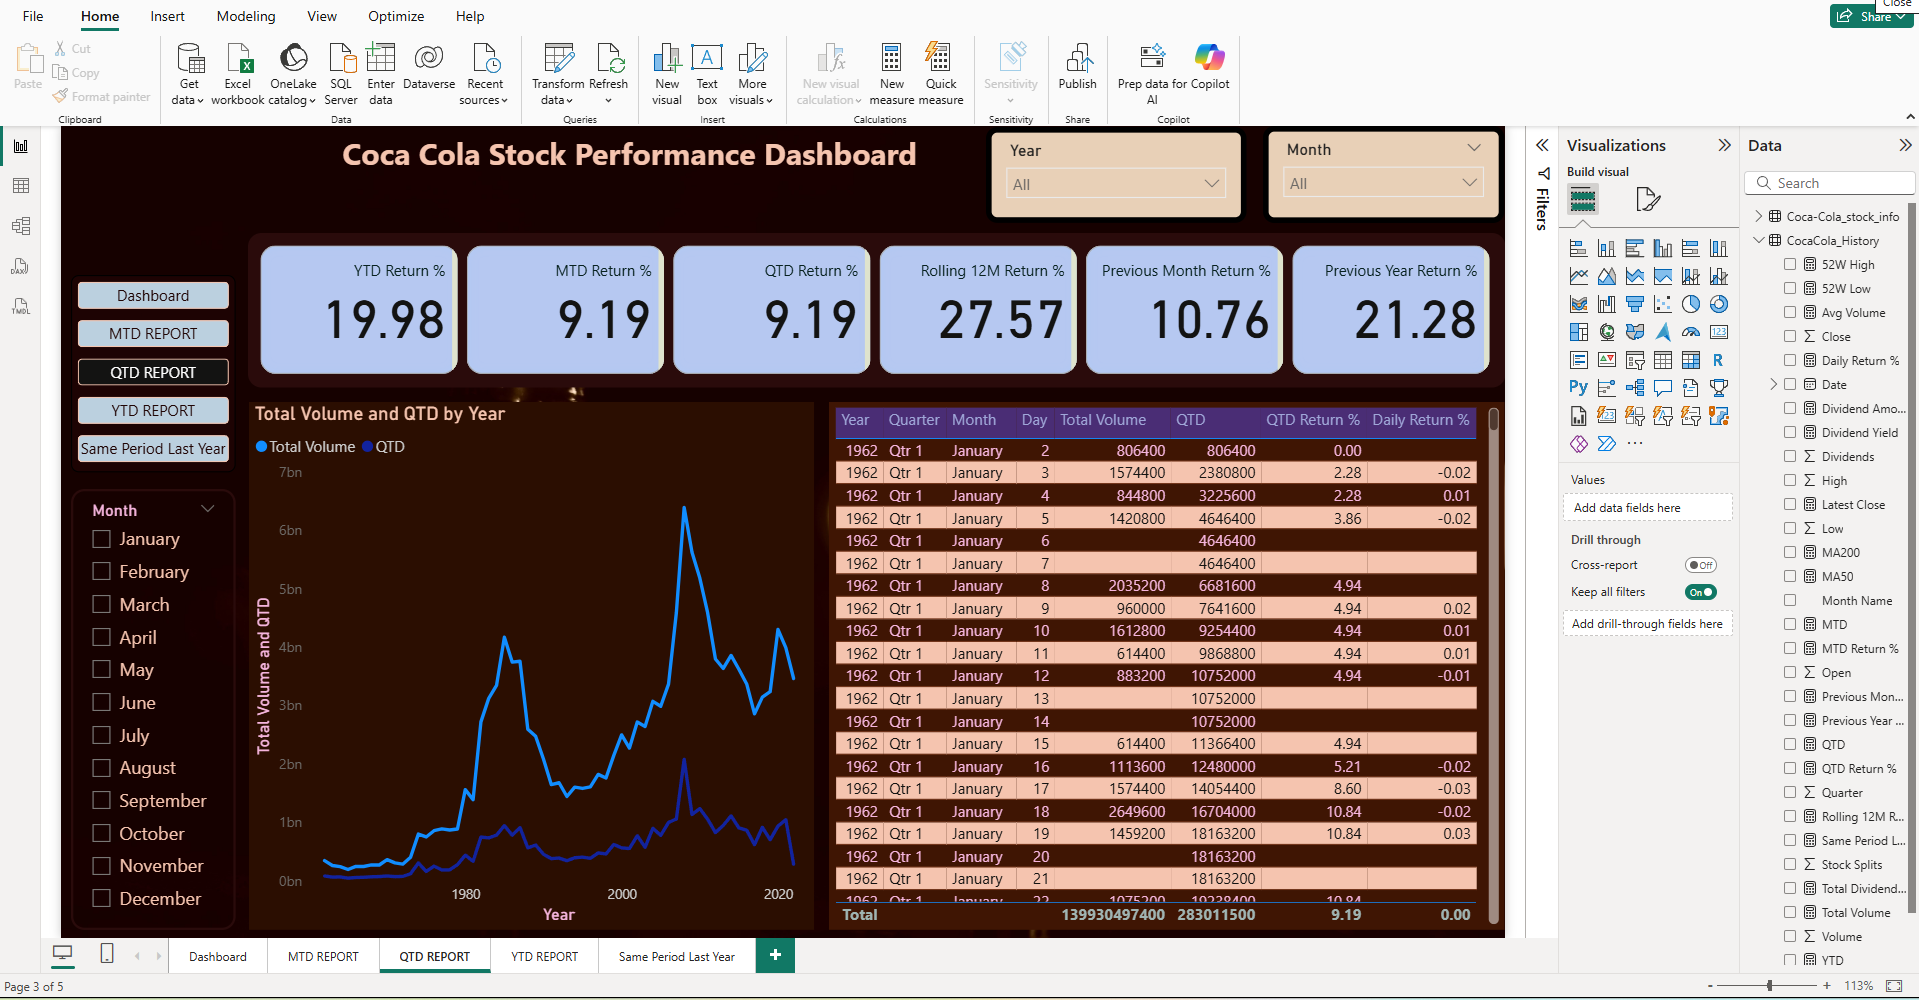

The dashboard page shown, as its layout file describes it:
{"tool":"powerbi","page":{"name":"QTD REPORT","canvas":[1280,720],"ordinal":2},"visuals":[{"type":"textbox","box":[213,1,583,61],"z":0},{"type":"slicer","fields":{"Values":["CocaCola_History.Date.Variation.Date Hierarchy.Month"]},"box":[1066,0,214,86],"z":1000},{"type":"slicer","fields":{"Values":["CocaCola_History.Date.Variation.Date Hierarchy.Month"]},"box":[8.9,321.9,146,391],"z":2000},{"type":"cardVisual","fields":{"Data":["CocaCola_History.YTD Return %","CocaCola_History.MTD Return %","CocaCola_History.QTD Return %","CocaCola_History.Rolling 12M Return %","CocaCola_History.Previous Month Return %","CocaCola_History.Previous Year Return %"]},"box":[165.8,94.9,1114.6,136.6],"z":3000},{"type":"lineChart","fields":{"Y":["CocaCola_History.Total Volume","CocaCola_History.QTD"],"Category":["CocaCola_History.Date.Variation.Date Hierarchy.Year"]},"box":[166.3,245.1,500.9,467.8],"z":4000},{"type":"tableEx","fields":{"Values":["CocaCola_History.Date.Variation.Date Hierarchy.Year","CocaCola_History.Date.Variation.Date Hierarchy.Quarter","CocaCola_History.Date.Variation.Date Hierarchy.Month","CocaCola_History.Date.Variation.Date Hierarchy.Day","CocaCola_History.Total Volume","CocaCola_History.QTD","CocaCola_History.QTD Return %","CocaCola_History.Daily Return %"]},"box":[680.9,245.1,599.1,467.8],"z":5000},{"type":"slicer","fields":{"Values":["CocaCola_History.Date.Variation.Date Hierarchy.Year"]},"box":[820,1,231,85],"z":6000},{"type":"pageNavigator","box":[8.9,132.1,146.3,174.7],"z":7000}]}

Visuals, with their boxes on the page's 1280x720 design canvas (x1, y1, x2, y2). These are canvas units, not pixel positions in the 1919x1000 screenshot, which may show the page scaled, cropped or inside an application window:
textbox: <bbox>213, 1, 796, 62</bbox>
slicer - CocaCola_History.Date.Variation.Date Hierarchy.Month: <bbox>1066, 0, 1280, 86</bbox>
slicer - CocaCola_History.Date.Variation.Date Hierarchy.Month: <bbox>9, 322, 155, 713</bbox>
cardVisual - CocaCola_History.YTD Return % x CocaCola_History.MTD Return %: <bbox>166, 95, 1280, 232</bbox>
lineChart - CocaCola_History.Total Volume x CocaCola_History.QTD: <bbox>166, 245, 667, 713</bbox>
tableEx - CocaCola_History.Date.Variation.Date Hierarchy.Year x CocaCola_History.Date.Variation.Date Hierarchy.Quarter: <bbox>681, 245, 1280, 713</bbox>
slicer - CocaCola_History.Date.Variation.Date Hierarchy.Year: <bbox>820, 1, 1051, 86</bbox>
pageNavigator: <bbox>9, 132, 155, 307</bbox>
